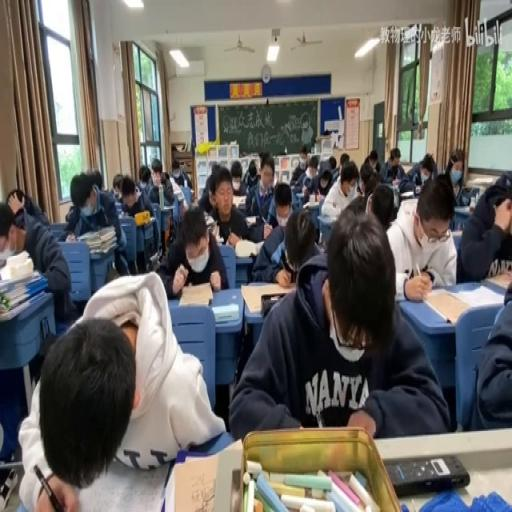calculator: (75, 450, 168, 510), (170, 451, 220, 512), (240, 280, 291, 313), (178, 279, 212, 307), (484, 268, 512, 292), (212, 302, 238, 324), (317, 212, 334, 242), (234, 238, 259, 256), (0, 245, 17, 263), (171, 185, 186, 203), (466, 185, 480, 203), (208, 222, 221, 240), (302, 196, 320, 209), (231, 194, 247, 208), (454, 203, 472, 212), (158, 203, 174, 212), (245, 215, 258, 226), (400, 189, 414, 199), (205, 213, 215, 226), (114, 200, 122, 214), (450, 229, 462, 237), (216, 236, 224, 243), (392, 178, 399, 186)
paper: (230, 205, 442, 441), (2, 191, 74, 327), (386, 172, 460, 294), (465, 269, 512, 429), (63, 168, 128, 280), (456, 169, 512, 283), (197, 164, 251, 243), (319, 158, 360, 219), (284, 209, 317, 270), (259, 172, 291, 229), (444, 148, 475, 205), (141, 156, 173, 206), (398, 151, 433, 192), (355, 165, 381, 210), (380, 145, 405, 182), (290, 144, 310, 186), (171, 158, 192, 189), (244, 158, 259, 189), (493, 172, 512, 194), (112, 174, 124, 199), (290, 188, 304, 209), (90, 168, 102, 192), (138, 166, 150, 185), (230, 168, 242, 183), (339, 152, 350, 168), (308, 155, 318, 171), (328, 155, 337, 171), (318, 175, 328, 189), (160, 169, 170, 182), (414, 168, 422, 183), (422, 168, 431, 180), (374, 160, 380, 174)
person: (386, 452, 470, 496), (316, 404, 350, 429), (230, 468, 242, 510)
